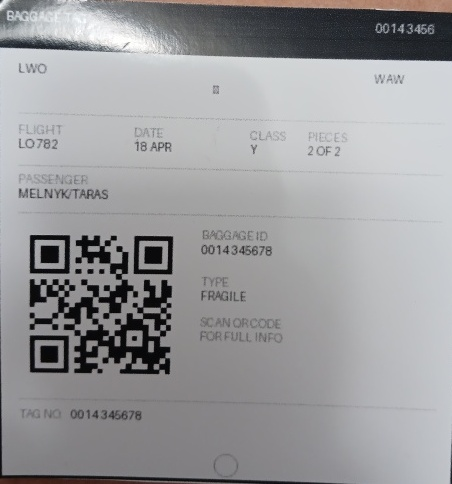LPN_bottom: (67, 403, 144, 424)
LPN_right: (199, 241, 277, 258)
